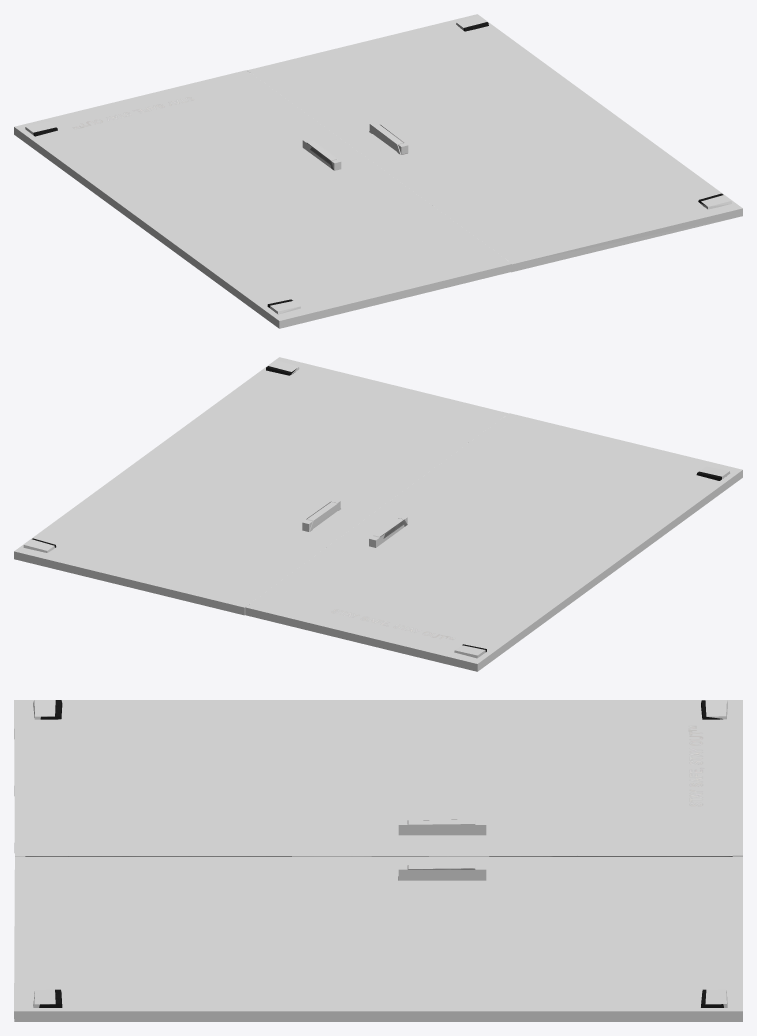
File: spawn_back_doors.glb
3 views of the same model, one above another, from view 1: azimuth 30°, elevation 25°; view 2: azimuth 150°, elevation 25°; view 3: azimuth 270°, elevation 25° (orthographic). The views are drawn at different scales.
Parts seen in each view (by area): view 1: c_back_door_right, c_back_door_left, dm_back_door_right_sheet_metal, dm_back_door_left_sheet_metal; view 2: c_back_door_right, c_back_door_left, dm_back_door_right_sheet_metal, dm_back_door_left_sheet_metal; view 3: c_back_door_left, c_back_door_right, dm_back_door_right_sheet_metal, c_handle_out_left, c_handle_out_right, dm_back_door_left_sheet_metal, g_door_right, g_decals_right_back_door.
Boxes of the visible parts, x1,y1,x2,y2 form: c_back_door_right: [14, 70, 511, 328]; c_back_door_left: [247, 14, 742, 272]; dm_back_door_right_sheet_metal: [25, 73, 504, 314]; dm_back_door_left_sheet_metal: [369, 16, 731, 209]; c_back_door_right: [245, 413, 742, 671]; c_back_door_left: [14, 357, 508, 615]; dm_back_door_right_sheet_metal: [250, 418, 730, 658]; dm_back_door_left_sheet_metal: [23, 360, 340, 552]; c_back_door_left: [14, 856, 742, 1021]; c_back_door_right: [14, 700, 742, 856]; dm_back_door_right_sheet_metal: [33, 700, 730, 856]; c_handle_out_left: [398, 865, 486, 880]; c_handle_out_right: [398, 820, 486, 835]; dm_back_door_left_sheet_metal: [33, 864, 727, 1007]; g_door_right: [25, 700, 732, 856]; g_decals_right_back_door: [688, 726, 704, 806].
Size of the model in its own units: 1.57 by 0.0856 by 1.56.
4 materials, 3 textured.
